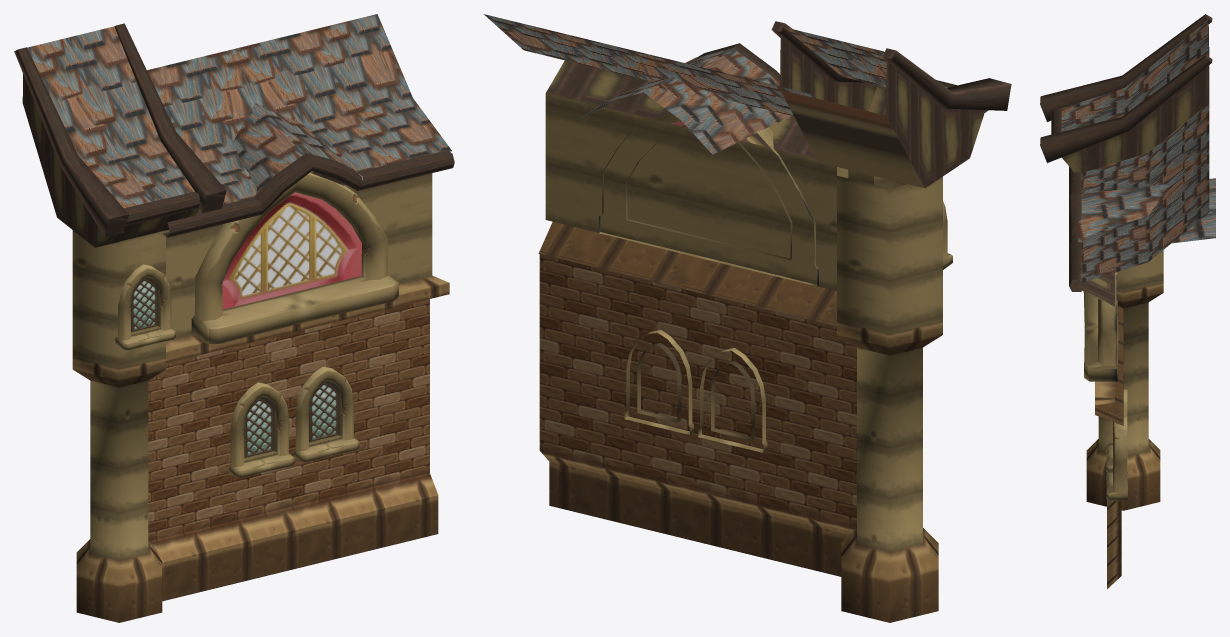
Rendered from external wall2.FBX.
3 renders of one model, left to right at view 1: azimuth 30°, elevation 25°; view 2: azimuth 150°, elevation 25°; view 3: azimuth 270°, elevation 25°, orthographic. The views are drawn at different scales.
Visible parts, largest first — view 1: external wall2; view 2: external wall2; view 3: external wall2.
Part boxes in pixels (x1=…): external wall2: x1=14, y1=14, x2=454, y2=622; external wall2: x1=484, y1=14, x2=1011, y2=622; external wall2: x1=1040, y1=14, x2=1215, y2=588.
Size of the model in its own units: 1348 by 1837 by 641.
